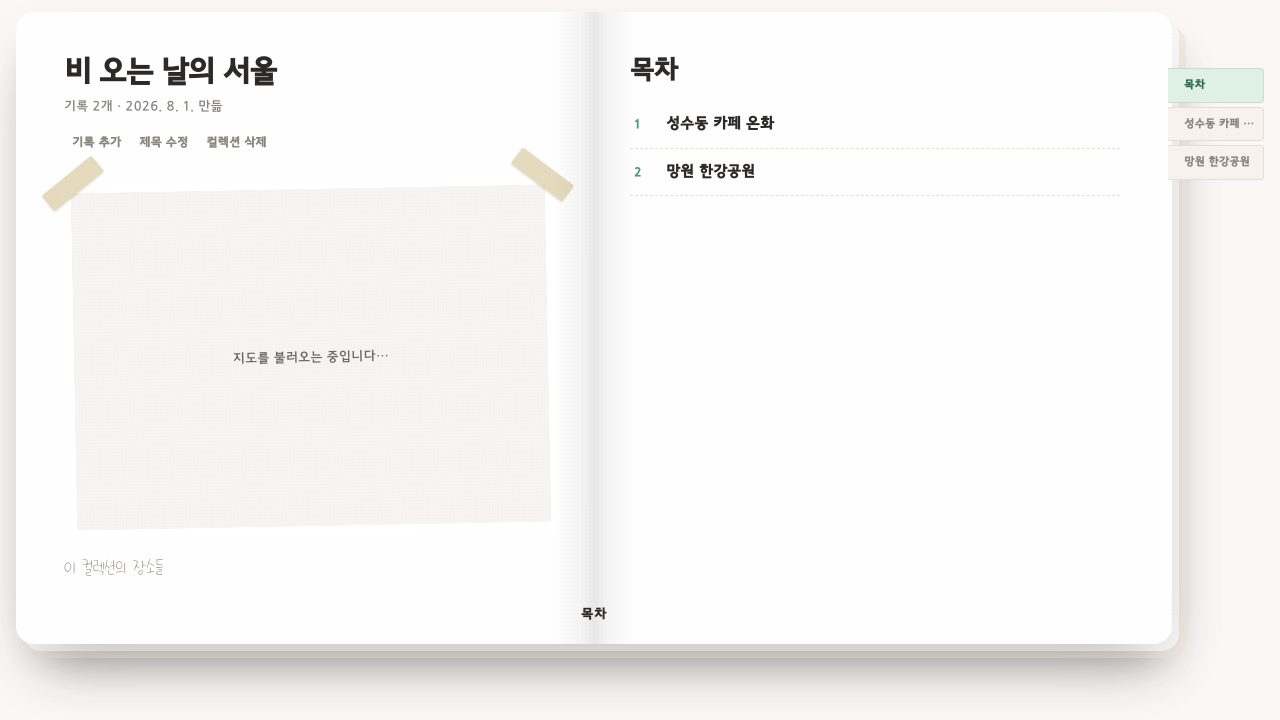
Test: CollectionDetailView — 펼침면 소유자 배치(418) › 맥락이 하나도 없어도 오류로 다루지 않는다
Click the button "성수동 카페 온화" at (1216, 124), box [1168,106,1264,141]
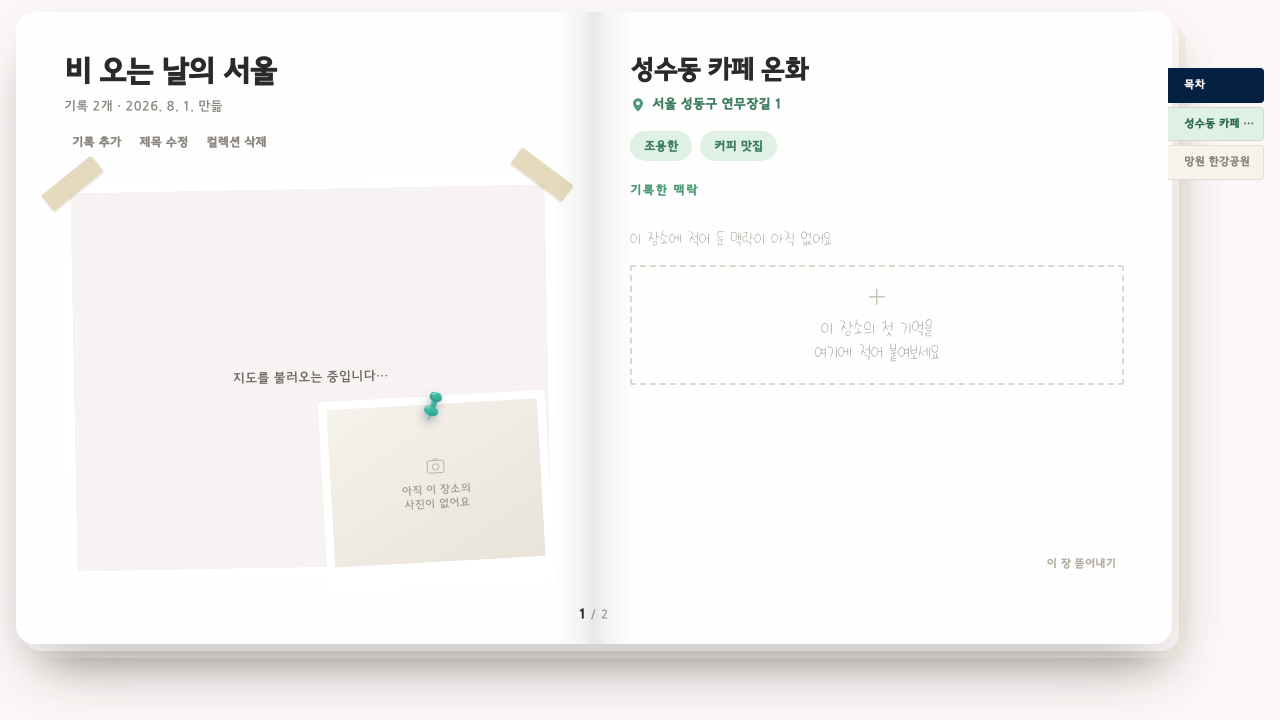
expect the text "맥락이 아직 없어요" is shown: met, box [630,226,832,249]
